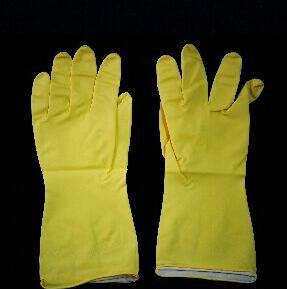gloves: (151, 42, 272, 289), (26, 48, 142, 287)
